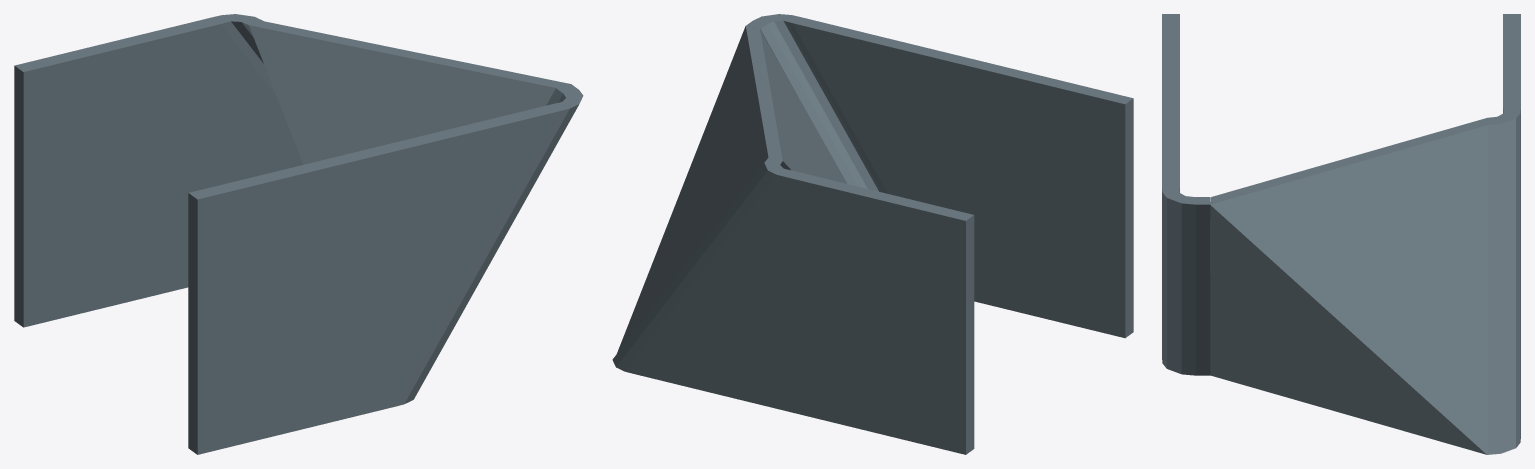
File: Wall weird.fbx
3 views of the same model, side by side, from view 1: azimuth 30°, elevation 25°; view 2: azimuth 150°, elevation 25°; view 3: azimuth 270°, elevation 25° (orthographic). The views are drawn at different scales.
Parts seen in each view (by area): view 1: pCube316; view 2: pCube316; view 3: pCube316.
Part boxes in pixels (<box>): pCube316: <box>14,14,583,454</box>; pCube316: <box>612,14,1133,454</box>; pCube316: <box>1162,14,1520,454</box>.
Bounding box in the file's own units: 227 × 139 × 180.
